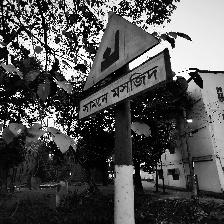Mosque in front: (78, 11, 174, 122)
